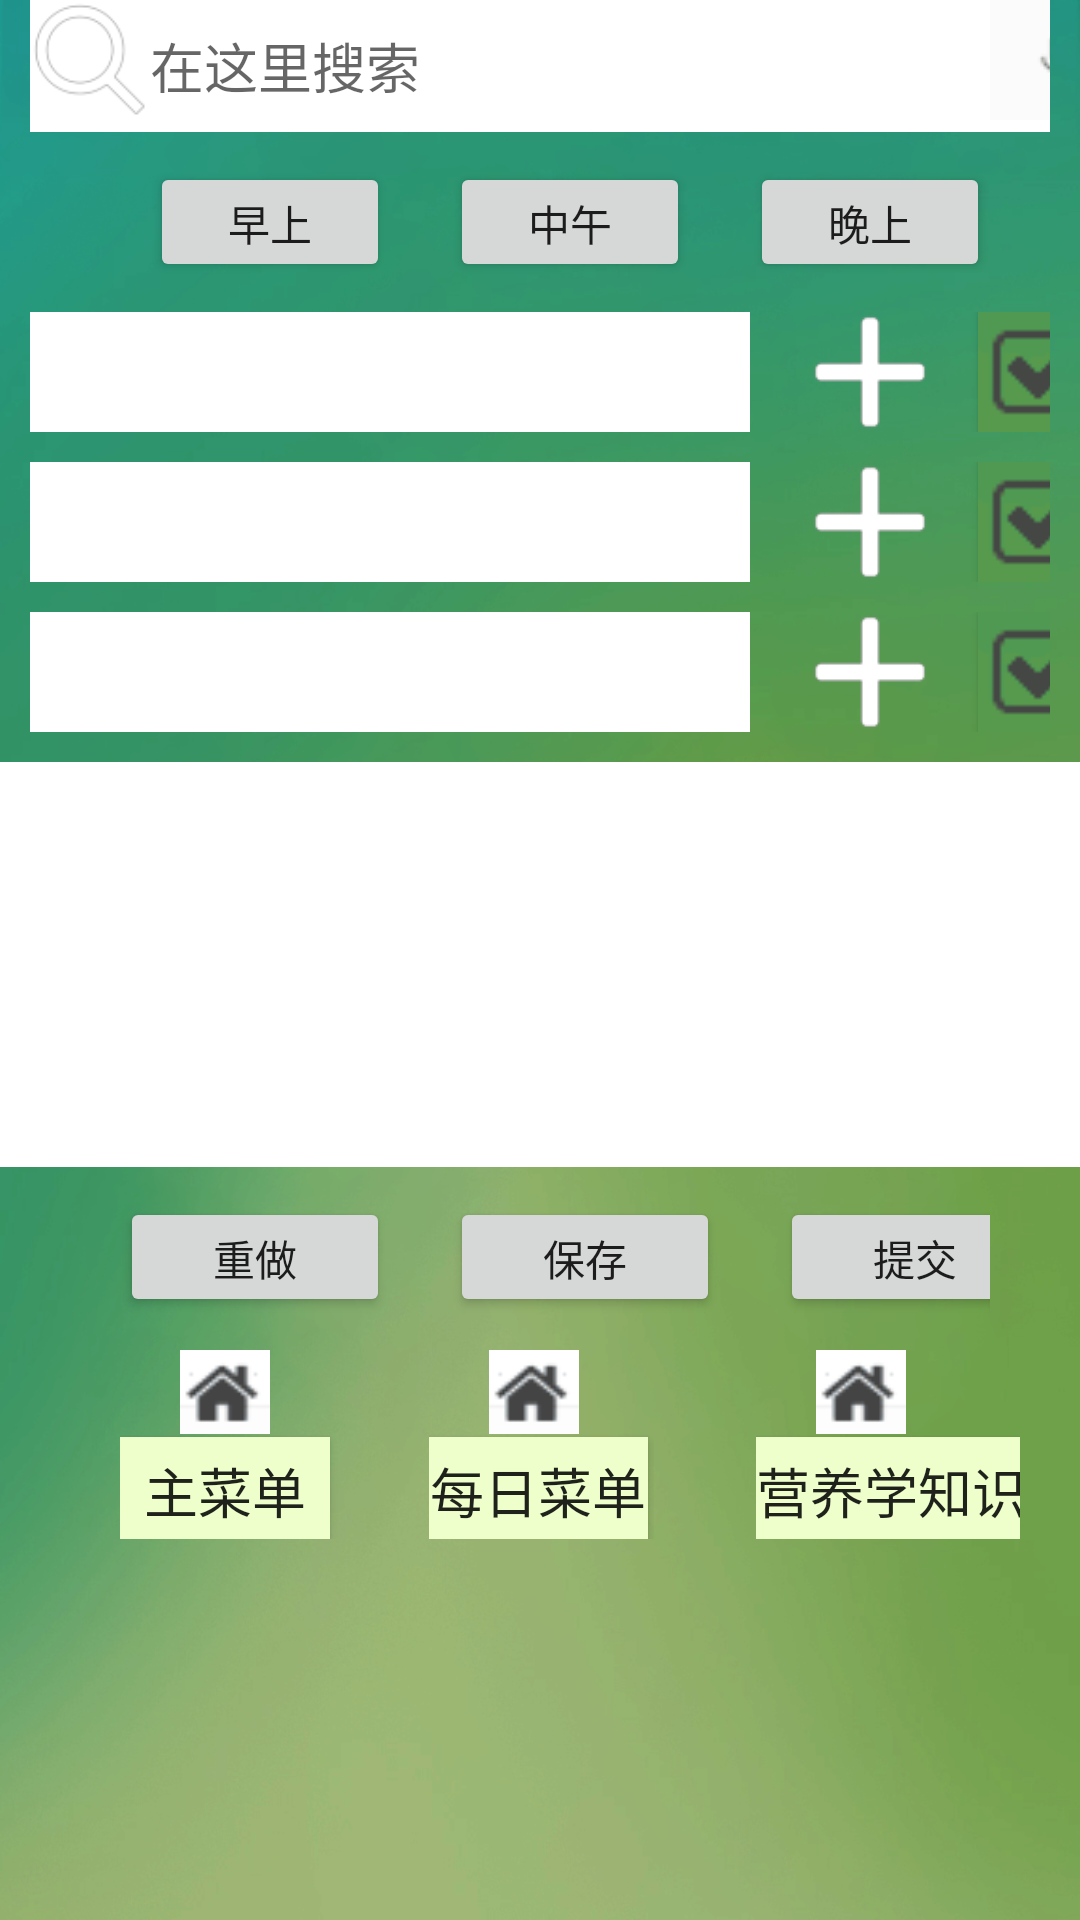

Where to tap for icons on this 1080×1920 app screen, as (x,y):
add: (870,372), (870,522), (870,672)
home: (225,1392), (534,1392), (861,1392)
search: (90,60)
